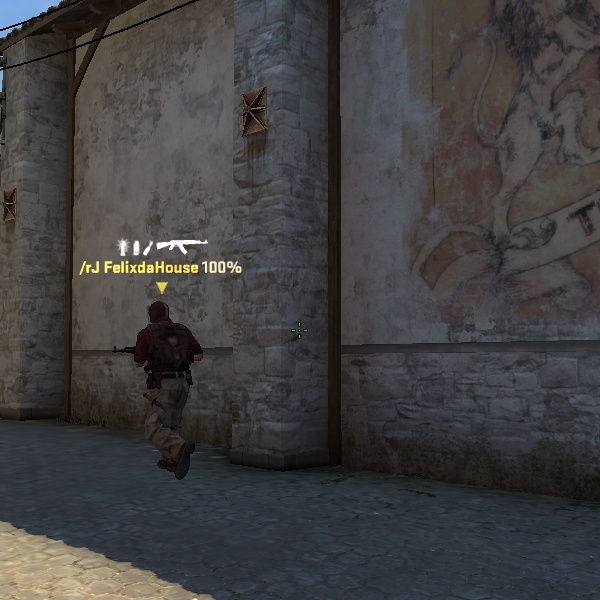t_body: (107, 296, 212, 484)
t_head: (139, 296, 179, 337)
